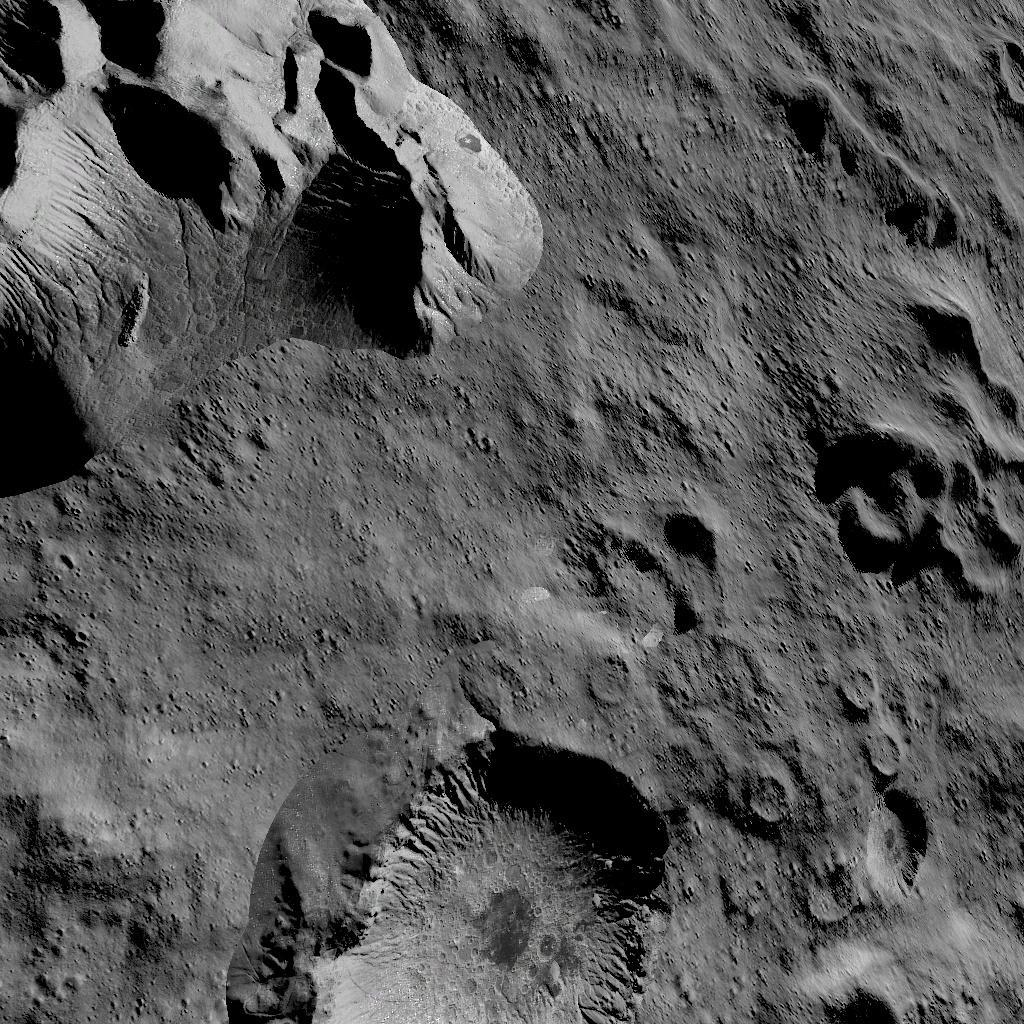Boulders: (0, 0, 548, 505)
Crater: (266, 726, 718, 1024), (811, 418, 1024, 602), (656, 508, 738, 636), (860, 793, 944, 908), (800, 860, 856, 927), (831, 658, 895, 716), (866, 728, 926, 788), (582, 650, 645, 706), (746, 769, 800, 833)
Plan surface: (0, 530, 256, 1024), (573, 152, 866, 398), (270, 522, 542, 712)
